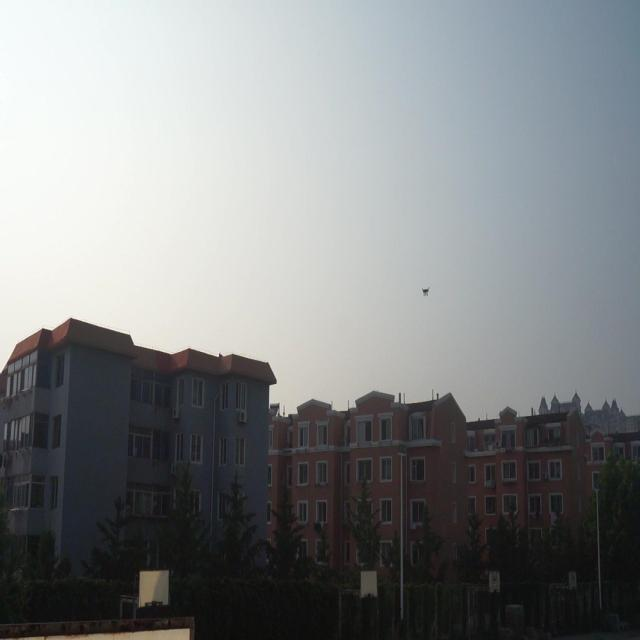drone: (420, 280, 432, 299)
